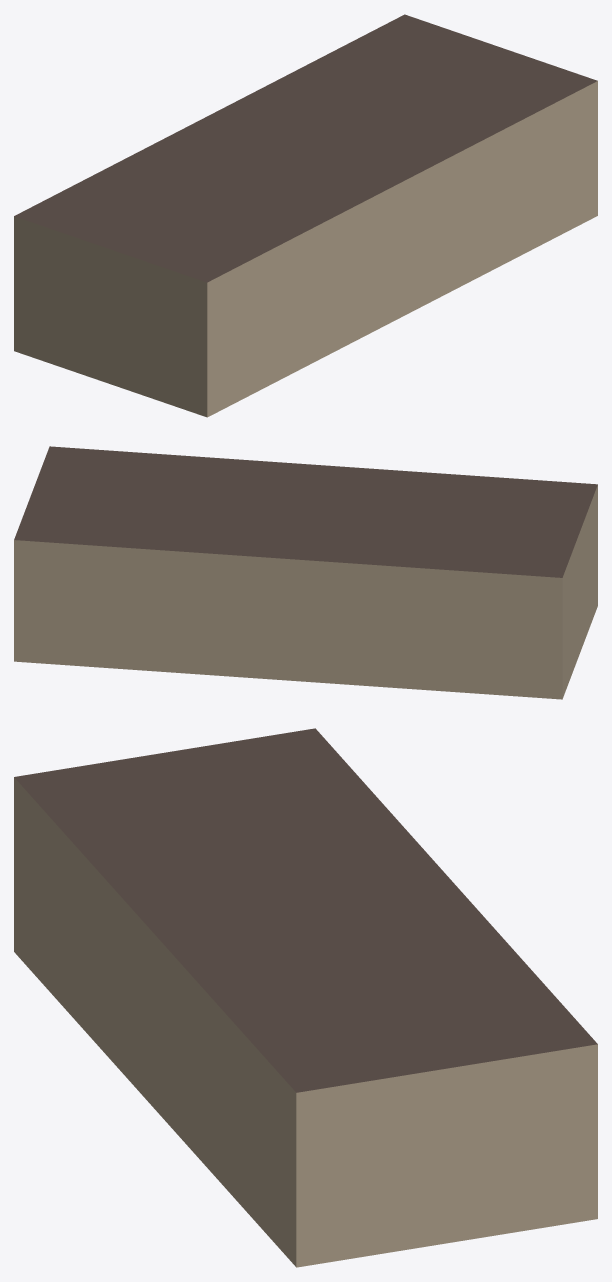
3 views of the same model, one above another, from view 1: azimuth 30°, elevation 25°; view 2: azimuth 150°, elevation 25°; view 3: azimuth 270°, elevation 25° (orthographic). The views are drawn at different scales.
Parts seen in each view (by area): view 1: HP-w859078950; view 2: HP-w859078950; view 3: HP-w859078950.
Boxes of the visible parts, box(x1,y1,x2,y2) form: HP-w859078950: box(14, 14, 597, 417); HP-w859078950: box(14, 446, 597, 699); HP-w859078950: box(14, 728, 597, 1267).
Size of the model in its own units: 40.25 by 9 by 27.25.
